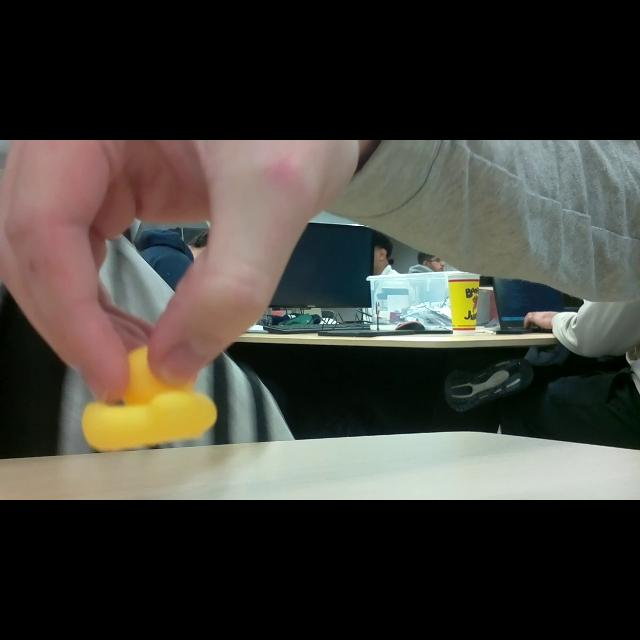duck_regular: (83, 346, 219, 453)
